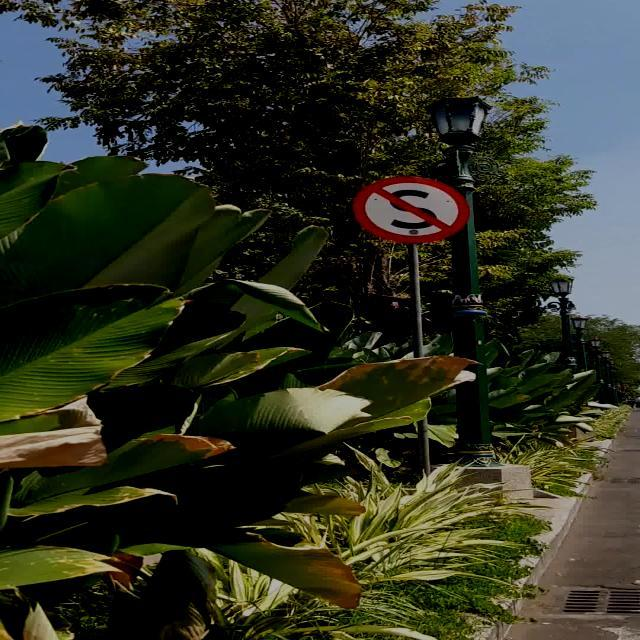Dilarang Berhenti: (353, 176, 470, 242)
